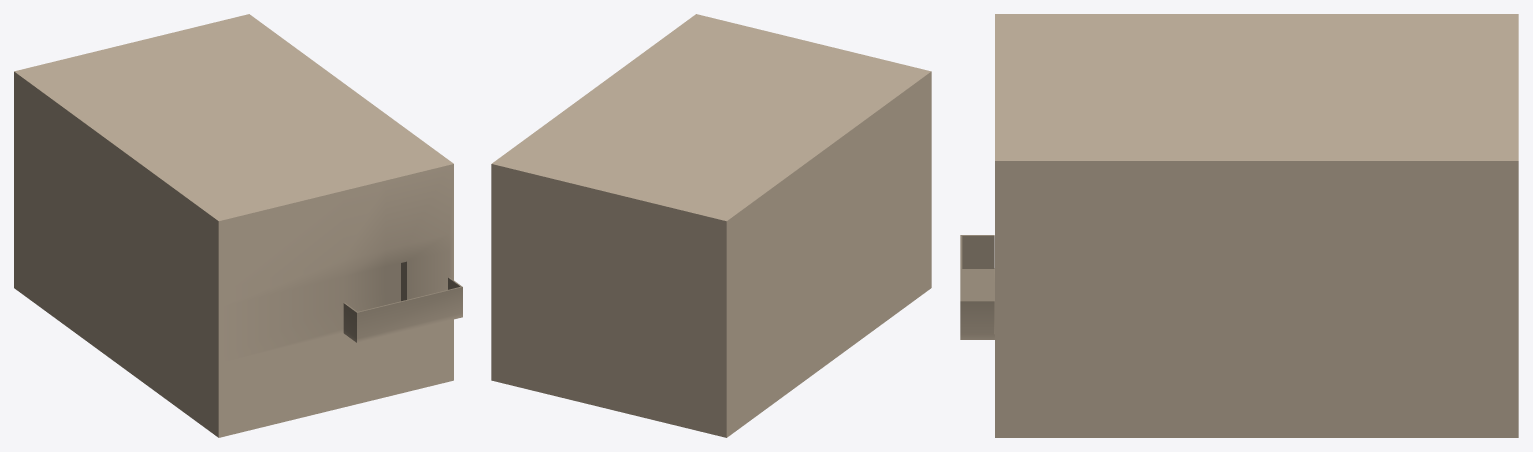
File: massing.glb
3 renders of one model, left to right at view 1: azimuth 30°, elevation 25°; view 2: azimuth 150°, elevation 25°; view 3: azimuth 270°, elevation 25°, orthographic. The views are drawn at different scales.
Visible parts, largest first — view 1: building/exterior; view 2: building/exterior; view 3: building/exterior.
Part boxes in pixels (box(x1,y1,x2,y2)): building/exterior: box(14, 14, 462, 437); building/exterior: box(491, 14, 931, 437); building/exterior: box(960, 14, 1518, 437).
Size of the model in its own units: 10 by 8.8 by 16.07.
